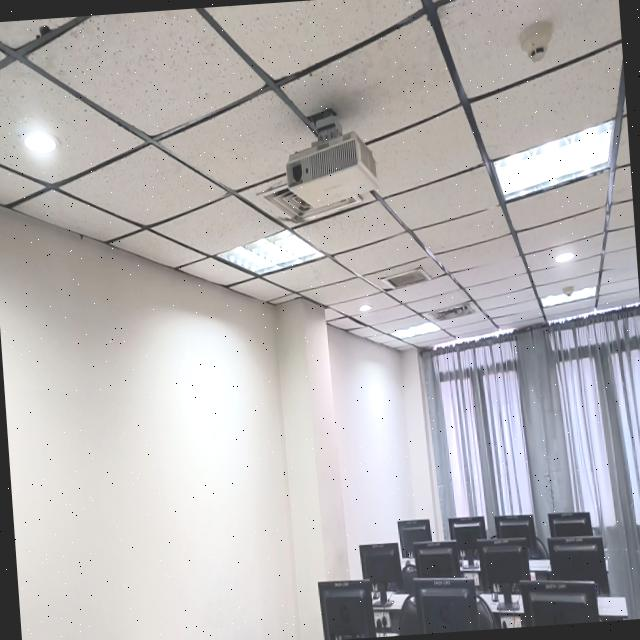Chair: (398, 596, 419, 635), (476, 593, 496, 630), (401, 561, 417, 594)
Light: (492, 120, 613, 201), (217, 229, 323, 274), (541, 287, 595, 307), (393, 321, 440, 338), (24, 133, 56, 152), (555, 252, 573, 262), (359, 303, 372, 312)
Monitor: (520, 580, 600, 626), (414, 578, 479, 634), (318, 579, 376, 640), (548, 536, 609, 594), (479, 539, 530, 607), (359, 543, 401, 606), (448, 516, 486, 563), (414, 542, 461, 577), (494, 514, 535, 554), (397, 519, 431, 557), (547, 512, 592, 536)
Projector: (286, 131, 378, 209)
